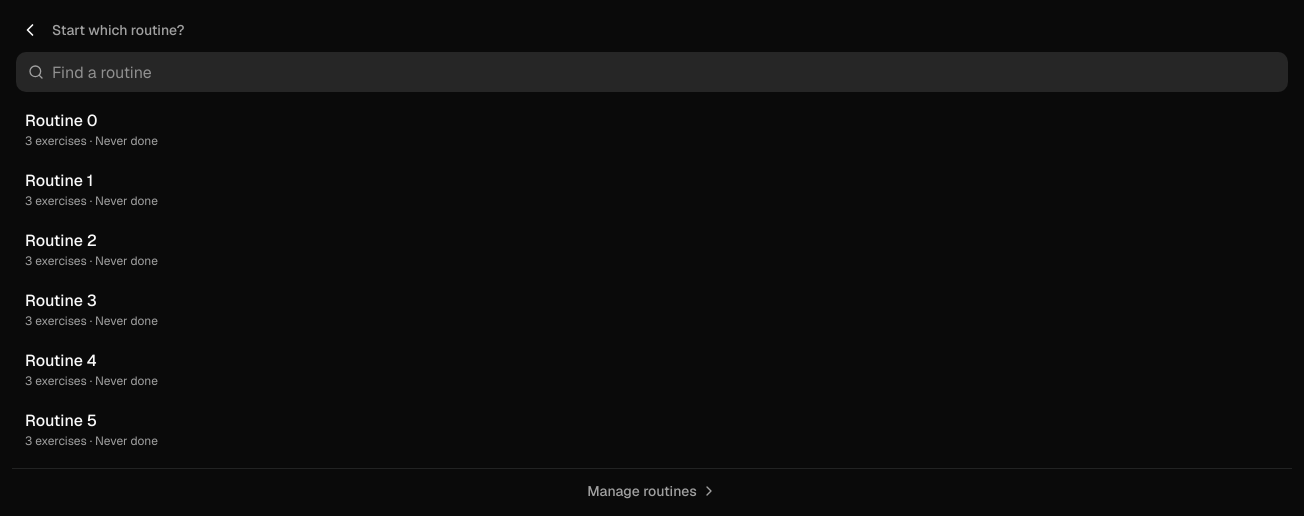
RoutinePicker › filters a long list by name, and says when nothing matches
Type "push" into the search field labelled "Find a routine" at [664, 72], box [52, 52, 1276, 92]
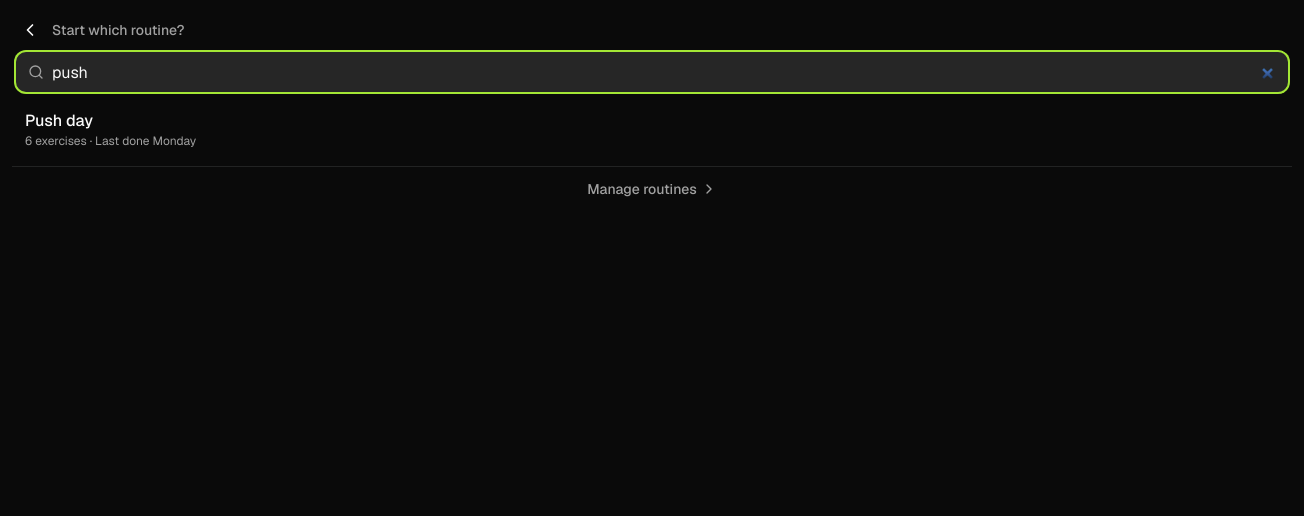
Check: the number of list items is 1, box [12, 100, 1292, 158]
Replace the text in the search field named "Find a routine" with "arms" at [664, 72], box [52, 52, 1276, 92]
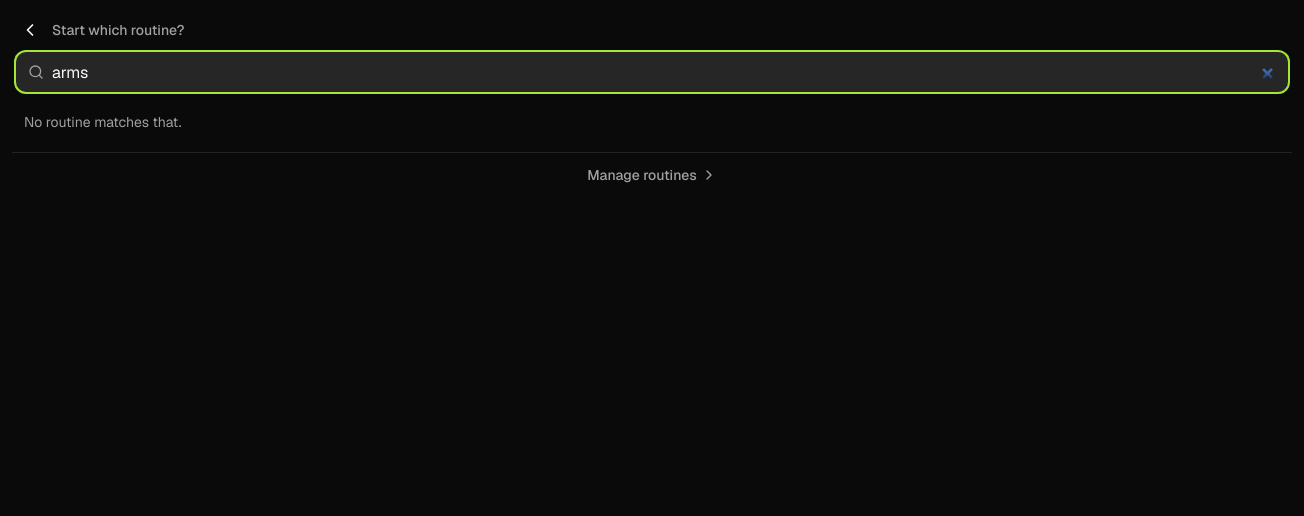
Check: no list items are shown
Check: the text "No routine matches that." is shown, box [24, 113, 182, 131]
